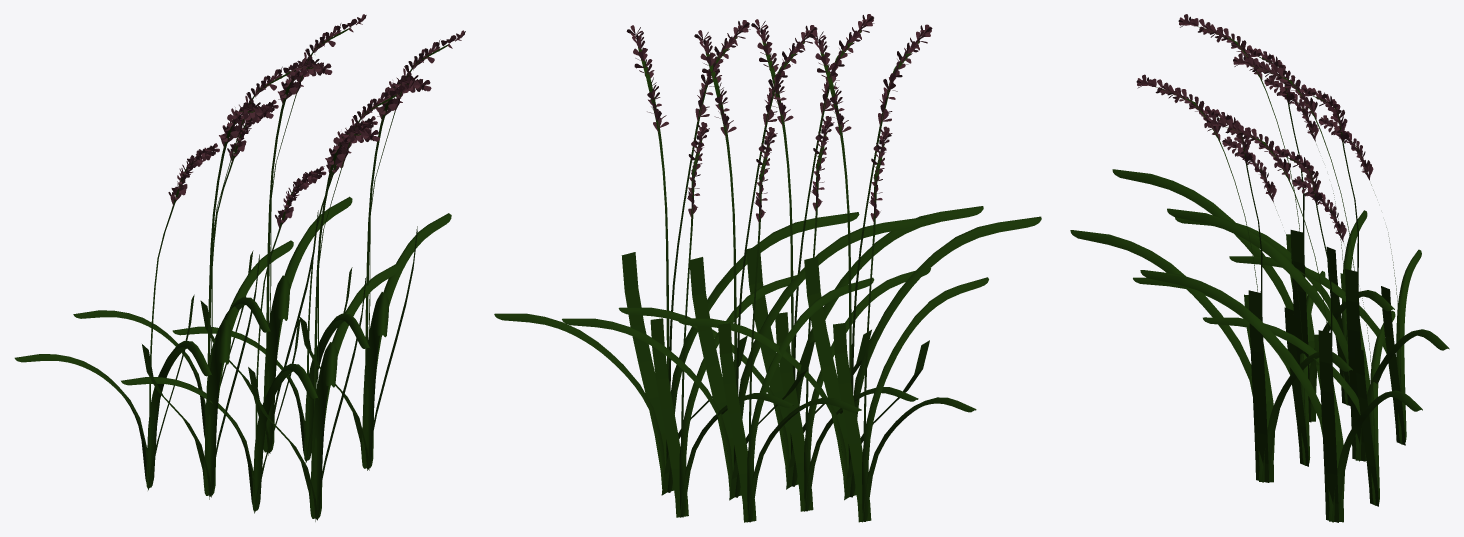
File: giant quickgrass.glb
3 views of the same model, side by side, from view 1: azimuth 30°, elevation 25°; view 2: azimuth 150°, elevation 25°; view 3: azimuth 270°, elevation 25° (orthographic). The views are drawn at different scales.
Parts seen in each view (by area): view 1: GS Dryland meadow flower 02.001, GS Dryland meadow flower 02, GS Dryland meadow flower 02.002, GS Dryland meadow flower 02.003; view 2: GS Dryland meadow flower 02.001, GS Dryland meadow flower 02.003, GS Dryland meadow flower 02.002, GS Dryland meadow flower 02; view 3: GS Dryland meadow flower 02.002, GS Dryland meadow flower 02.003, GS Dryland meadow flower 02, GS Dryland meadow flower 02.001.
Part boxes in pixels (left/top/right/bottom): GS Dryland meadow flower 02.001: left=14, top=57, right=307, bottom=499; GS Dryland meadow flower 02: left=121, top=80, right=413, bottom=521; GS Dryland meadow flower 02.002: left=172, top=30, right=465, bottom=470; GS Dryland meadow flower 02.003: left=73, top=14, right=366, bottom=455; GS Dryland meadow flower 02.001: left=677, top=24, right=1041, bottom=522; GS Dryland meadow flower 02.003: left=562, top=25, right=926, bottom=522; GS Dryland meadow flower 02.002: left=494, top=20, right=859, bottom=517; GS Dryland meadow flower 02: left=618, top=14, right=983, bottom=511; GS Dryland meadow flower 02.002: left=1140, top=114, right=1422, bottom=522; GS Dryland meadow flower 02.003: left=1167, top=53, right=1449, bottom=461; GS Dryland meadow flower 02: left=1070, top=74, right=1352, bottom=482; GS Dryland meadow flower 02.001: left=1112, top=14, right=1394, bottom=422.
Bounding box in the file's own units: 11.11 × 10.67 × 8.61.
